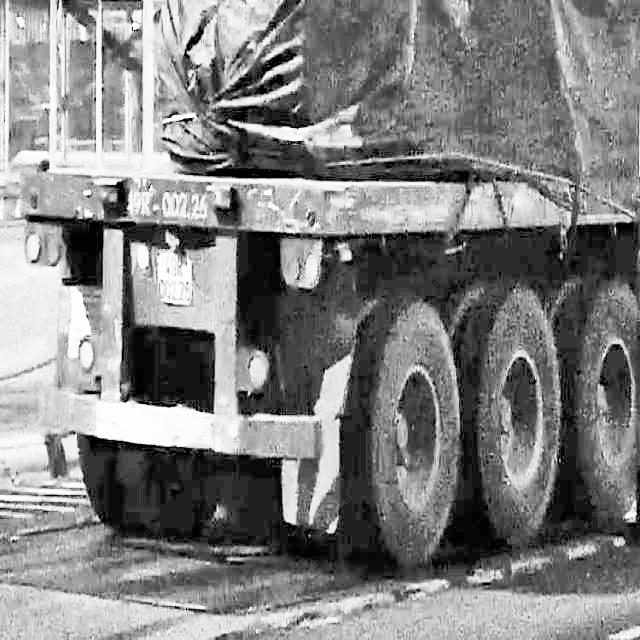Truck: (11, 0, 638, 572)
